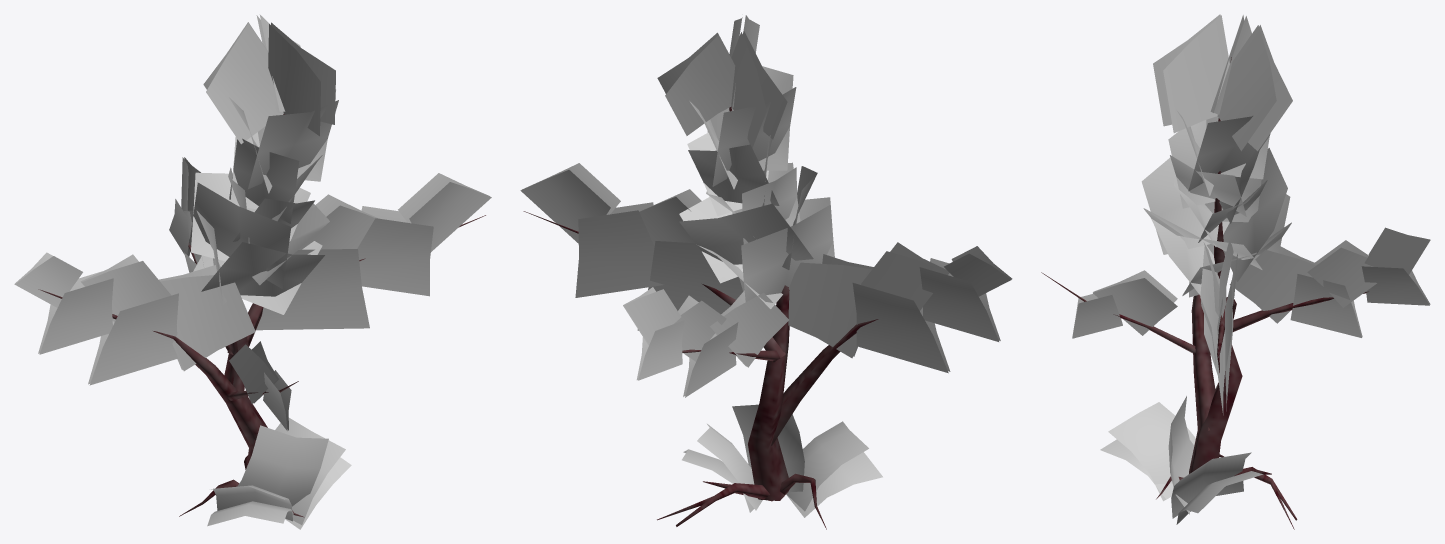
The model's file is Medium_Tree_2_Present.fbx.
The picture shows the model from 3 angles, left to right: view 1: azimuth 30°, elevation 25°; view 2: azimuth 150°, elevation 25°; view 3: azimuth 270°, elevation 25°; orthographic projection. The views are drawn at different scales.
Visible parts, largest first — view 1: Tree System; view 2: Tree System; view 3: Tree System.
Part boxes in pixels (x1=…): Tree System: x1=14, y1=14, x2=491, y2=529; Tree System: x1=520, y1=15, x2=1012, y2=529; Tree System: x1=1041, y1=14, x2=1430, y2=529.
Size of the model in its own units: 4332 by 4280 by 2983.
